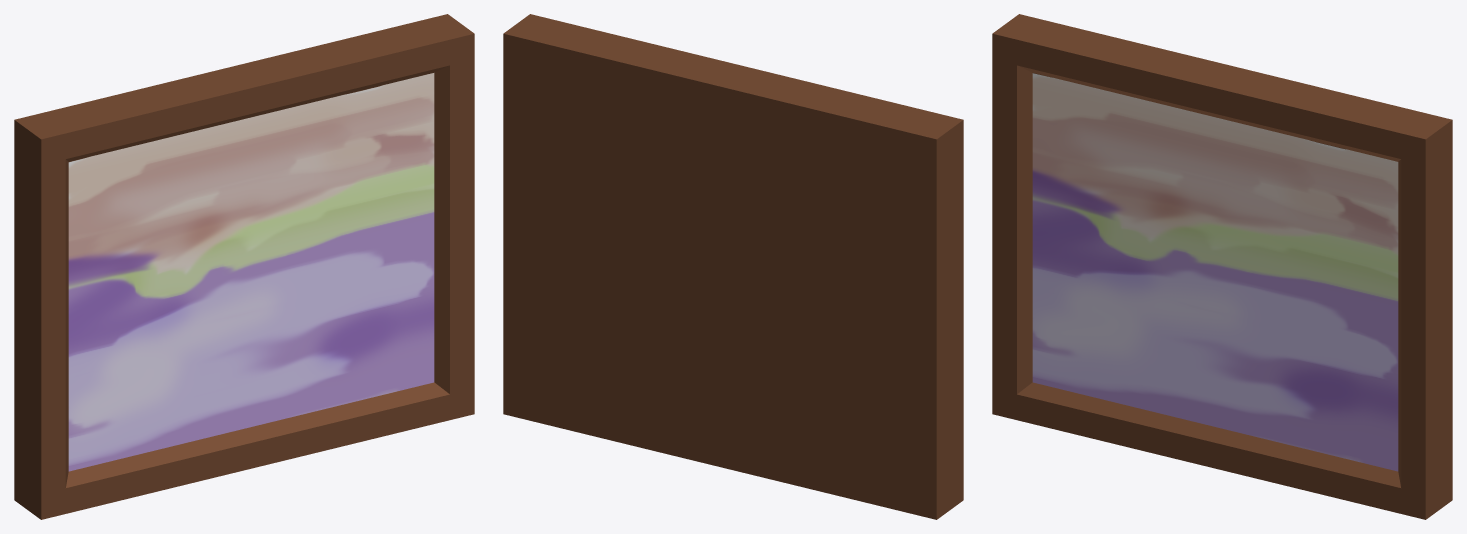
The model's file is photo_frame_02.FBX.
The picture shows the model from 3 angles, left to right: view 1: azimuth 30°, elevation 25°; view 2: azimuth 150°, elevation 25°; view 3: azimuth 330°, elevation 25°; orthographic projection.
Visible parts, largest first — view 1: Box025; view 2: Box025; view 3: Box025.
Part boxes in pixels (x1,y1,x2,y2): Box025: [14, 14, 474, 519]; Box025: [503, 14, 963, 519]; Box025: [992, 14, 1452, 519].
Bounding box in the file's own units: 75.57 × 63.4 × 8.12.
